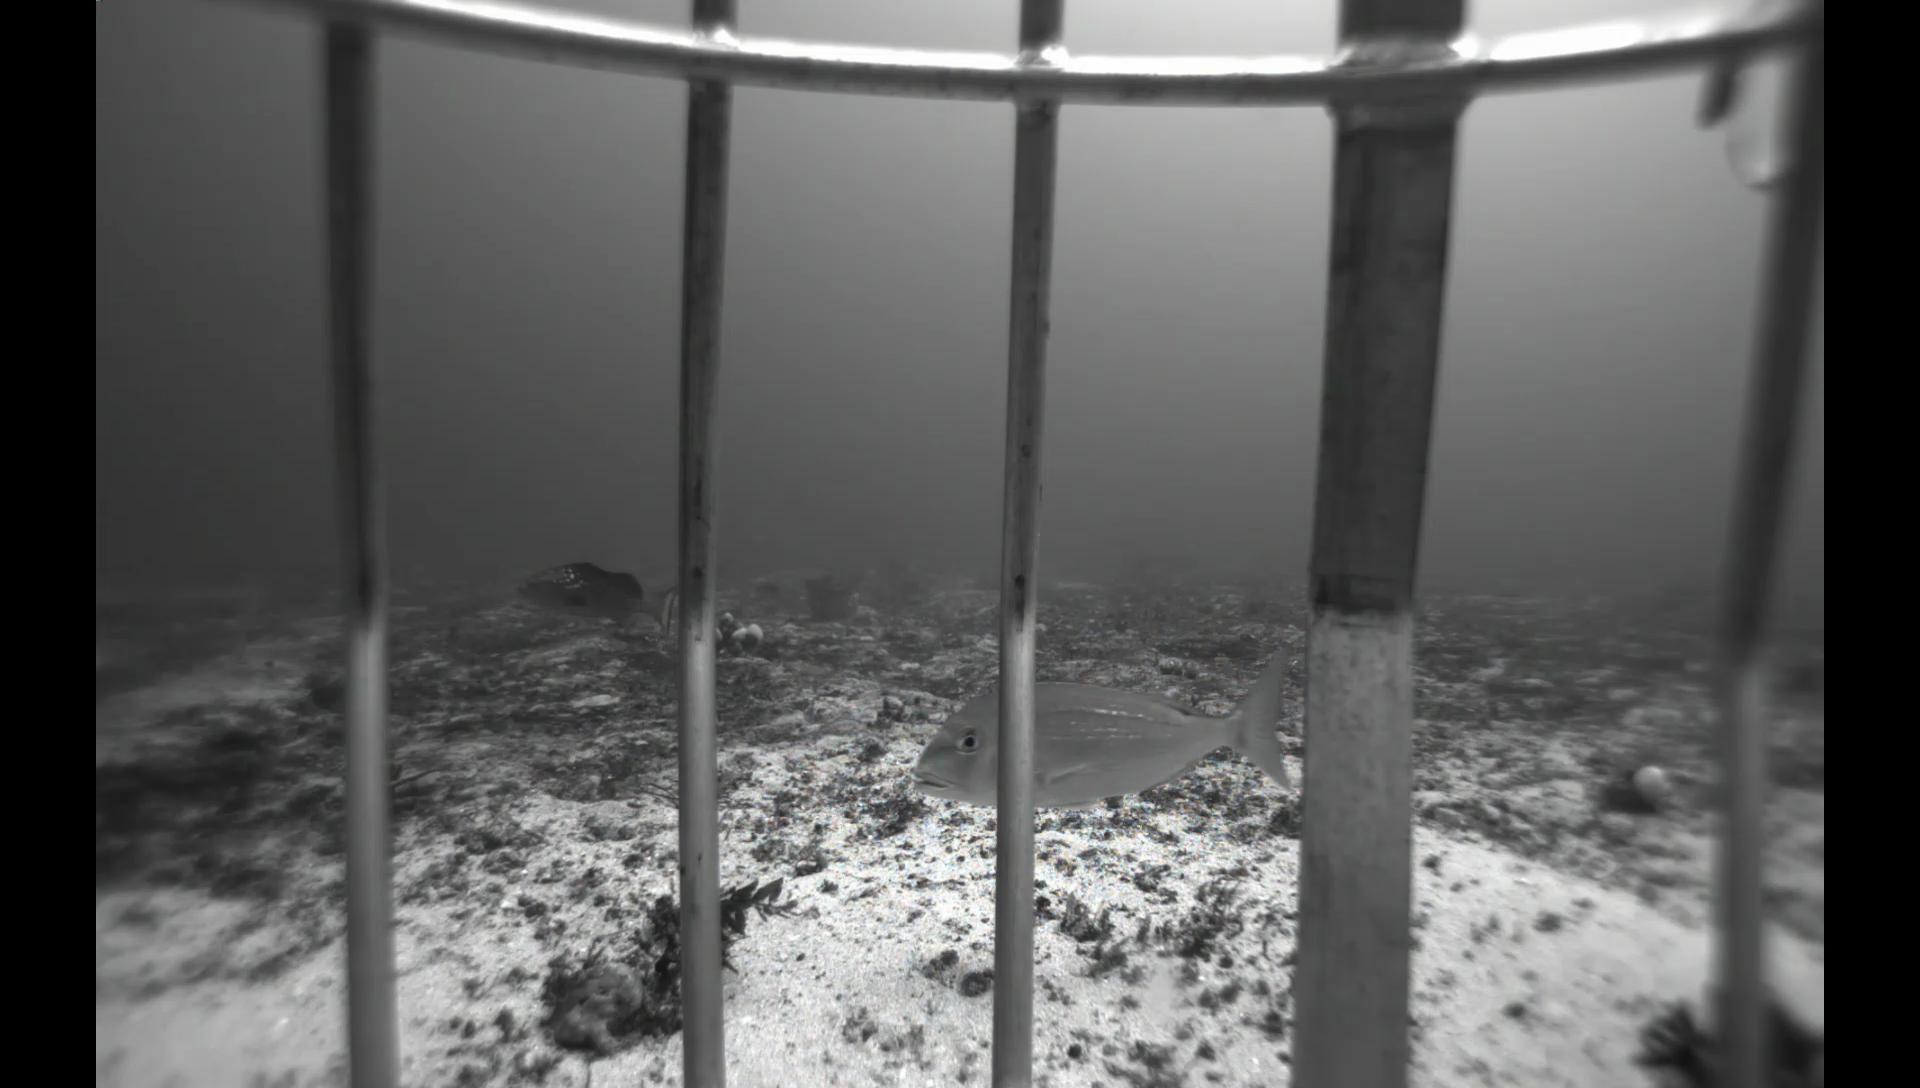CHAETODONOCELLATUS-170260307: (902, 557, 924, 578)
EPINEPHELUSMORIO-170021211: (505, 558, 678, 642)
PAGRUSPAGRUS-170212302: (894, 638, 1300, 818)
PRISTIGENYSALTA-170050401: (309, 669, 404, 721)
